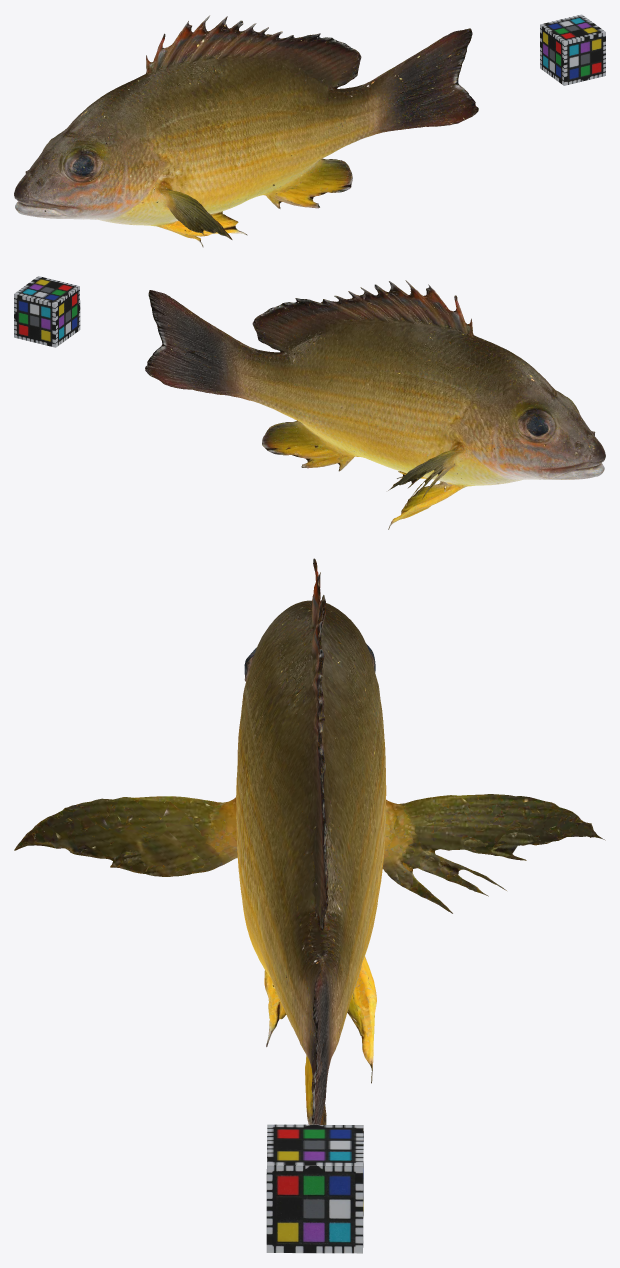
Rendered from scan_blacksnapper.glb.
3 renders of one model, top to bottom at view 1: azimuth 30°, elevation 25°; view 2: azimuth 150°, elevation 25°; view 3: azimuth 270°, elevation 25°, orthographic. The views are drawn at different scales.
Parts seen in each view (by area): view 1: Object_6, Object_4; view 2: Object_6, Object_4; view 3: Object_6, Object_4.
Boxes of the visible parts, x1,y1,x2,y2 form: Object_6: (14,15,478,247); Object_4: (540,14,605,85); Object_6: (145,280,605,529); Object_4: (14,276,80,347); Object_6: (14,558,605,1124); Object_4: (266,1124,363,1253).
Bounding box in the file's own units: 9.57 × 3.84 × 4.24.
2 materials, 2 textured.
